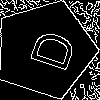D: (20, 25, 77, 74)
